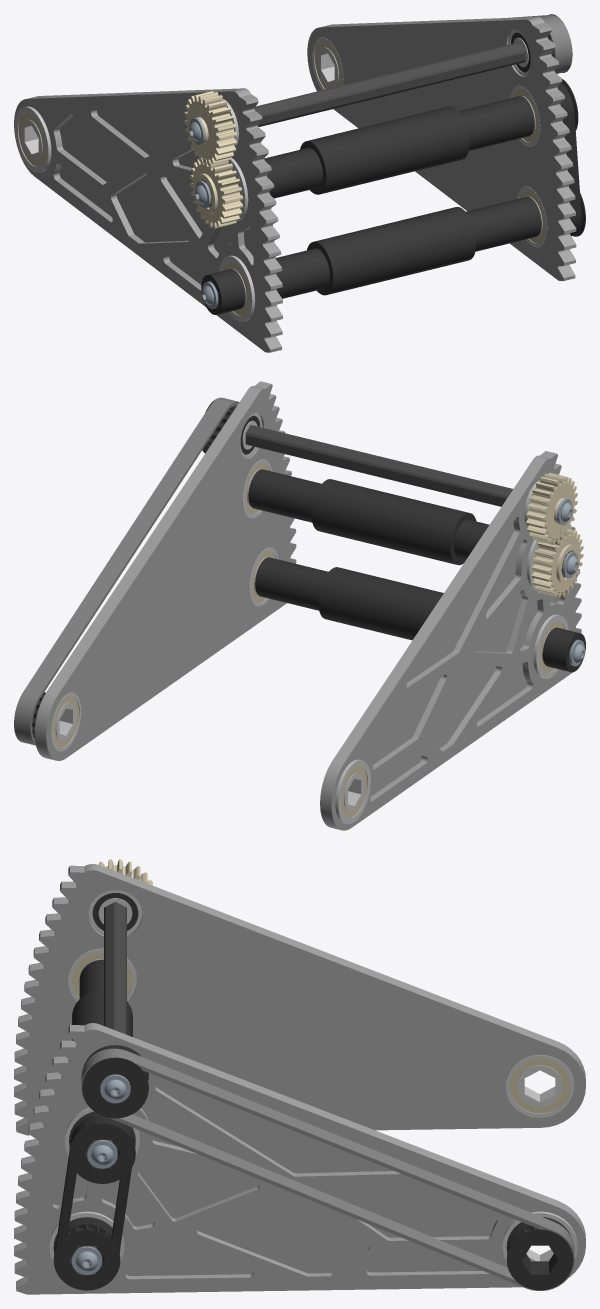
3 renders of one model, top to bottom at view 1: azimuth 30°, elevation 25°; view 2: azimuth 150°, elevation 25°; view 3: azimuth 270°, elevation 25°, orthographic. The views are drawn at different scales.
Visible parts, largest first — view 1: 110-002.5 Left Hood Plate, 110-002 Right Hood Plate, Sushi Roller (60A, 1/2" Hex Bore) (×6), 1/2" Hex Shaft Spacer (1" L, 3/4" OD, Acetal) (×4), 3/8" ThunderHex (7.531 in), 1/2" Hex Bore Bearing (1.125" OD, 0.313" WD, Shielded, Flang (×5), 24t Aluminum Spur Gear (20 DP, 3/8" Hex Bore), 24t Aluminum Spur Gear (20 DP, 1/2" Hex Bore), 35T 5M 9mm Wide Belt, 1/2" Hex Shaft Spacer (1/2" L, 3/4" OD, Acetal), 1/2" Hex Shaft Spacer (1/4" L, 3/4" OD, Acetal) (×2), 93T HTD Belt (+1 smaller); view 2: 110-002 Right Hood Plate, 110-002.5 Left Hood Plate, Sushi Roller (60A, 1/2" Hex Bore) (×6), 93T HTD Belt, 3/8" ThunderHex (7.531 in), 1/2" Hex Bore Bearing (1.125" OD, 0.313" WD, Shielded, Flang (×5), 1/2" Hex Shaft Spacer (1" L, 3/4" OD, Acetal) (×3), 24t Aluminum Spur Gear (20 DP, 3/8" Hex Bore), 24t Aluminum Spur Gear (20 DP, 1/2" Hex Bore), 1/2" Hex Shaft Spacer (1/2" L, 3/4" OD, Acetal); view 3: 110-002 Right Hood Plate, 110-002.5 Left Hood Plate, 93T HTD Belt, 15t Custom HTD 5mm Pulley (0.375" Wide, 1/2" Hex Bore w/ TTB (×3), 1/2" Hex Bore Bearing (1.125" OD, 0.313" WD, Shielded, Flang (×3), 3/8" ThunderHex (7.531 in), 15t Custom HTD 5mm Pulley (0.375" Wide, *0.375" Hex Bore), 35T 5M 9mm Wide Belt, 3/8" Hex Bore Bearing (0.875" OD, 0.281" WD, Sealed, Flanged, Sushi Roller (60A, 1/2" Hex Bore).
Boxes of the visible parts, x1=… form: 110-002.5 Left Hood Plate: x1=14, y1=88, x2=282, y2=352; 110-002 Right Hood Plate: x1=307, y1=16, x2=576, y2=281; Sushi Roller (60A, 1/2" Hex Bore) (×6): x1=300, y1=106, x2=476, y2=295; 1/2" Hex Shaft Spacer (1" L, 3/4" OD, Acetal) (×4): x1=264, y1=101, x2=520, y2=298; 3/8" ThunderHex (7.531 in): x1=254, y1=42, x2=525, y2=126; 1/2" Hex Bore Bearing (1.125" OD, 0.313" WD, Shielded, Flang (×5): x1=14, y1=37, x2=547, y2=321; 24t Aluminum Spur Gear (20 DP, 3/8" Hex Bore): x1=184, y1=91, x2=237, y2=165; 24t Aluminum Spur Gear (20 DP, 1/2" Hex Bore): x1=190, y1=158, x2=243, y2=228; 35T 5M 9mm Wide Belt: x1=557, y1=82, x2=581, y2=236; 1/2" Hex Shaft Spacer (1/2" L, 3/4" OD, Acetal): x1=201, y1=269, x2=245, y2=314; 1/2" Hex Shaft Spacer (1/4" L, 3/4" OD, Acetal) (×2): x1=499, y1=98, x2=532, y2=241; 93T HTD Belt: x1=508, y1=15, x2=572, y2=73; 110-002 Right Hood Plate: x1=34, y1=381, x2=296, y2=760; 110-002.5 Left Hood Plate: x1=320, y1=451, x2=581, y2=830; Sushi Roller (60A, 1/2" Hex Bore) (×6): x1=311, y1=479, x2=476, y2=640; 93T HTD Belt: x1=14, y1=397, x2=239, y2=745; 3/8" ThunderHex (7.531 in): x1=245, y1=425, x2=512, y2=506; 1/2" Hex Bore Bearing (1.125" OD, 0.313" WD, Shielded, Flang (×5): x1=51, y1=459, x2=568, y2=824; 1/2" Hex Shaft Spacer (1" L, 3/4" OD, Acetal) (×3): x1=268, y1=474, x2=489, y2=610; 24t Aluminum Spur Gear (20 DP, 3/8" Hex Bore): x1=526, y1=472, x2=577, y2=544; 24t Aluminum Spur Gear (20 DP, 1/2" Hex Bore): x1=531, y1=528, x2=583, y2=597; 1/2" Hex Shaft Spacer (1/2" L, 3/4" OD, Acetal): x1=542, y1=627, x2=585, y2=672; 110-002 Right Hood Plate: x1=14, y1=1023, x2=585, y2=1294; 110-002.5 Left Hood Plate: x1=14, y1=864, x2=585, y2=1135; 93T HTD Belt: x1=81, y1=1048, x2=574, y2=1290; 15t Custom HTD 5mm Pulley (0.375" Wide, 1/2" Hex Bore w/ TTB (×3): x1=53, y1=1111, x2=573, y2=1290; 1/2" Hex Bore Bearing (1.125" OD, 0.313" WD, Shielded, Flang (×3): x1=68, y1=948, x2=577, y2=1261; 3/8" ThunderHex (7.531 in): x1=104, y1=902, x2=126, y2=1034; 15t Custom HTD 5mm Pulley (0.375" Wide, *0.375" Hex Bore): x1=82, y1=1045, x2=148, y2=1118; 35T 5M 9mm Wide Belt: x1=55, y1=1114, x2=133, y2=1252; 3/8" Hex Bore Bearing (0.875" OD, 0.281" WD, Sealed, Flanged: x1=88, y1=890, x2=142, y2=935; Sushi Roller (60A, 1/2" Hex Bore): x1=72, y1=990, x2=132, y2=1039.
Size of the model in its own units: 0.1989 by 0.1215 by 0.2375.
